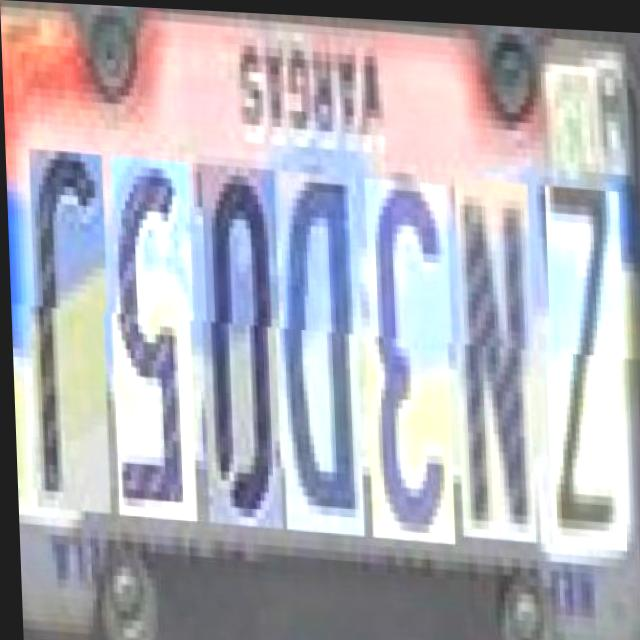0: (196, 164, 279, 529)
3: (358, 176, 451, 541)
5: (106, 158, 194, 523)
d: (273, 170, 361, 535)
j: (23, 152, 107, 517)
n: (449, 174, 533, 539)
z: (540, 180, 624, 545)
